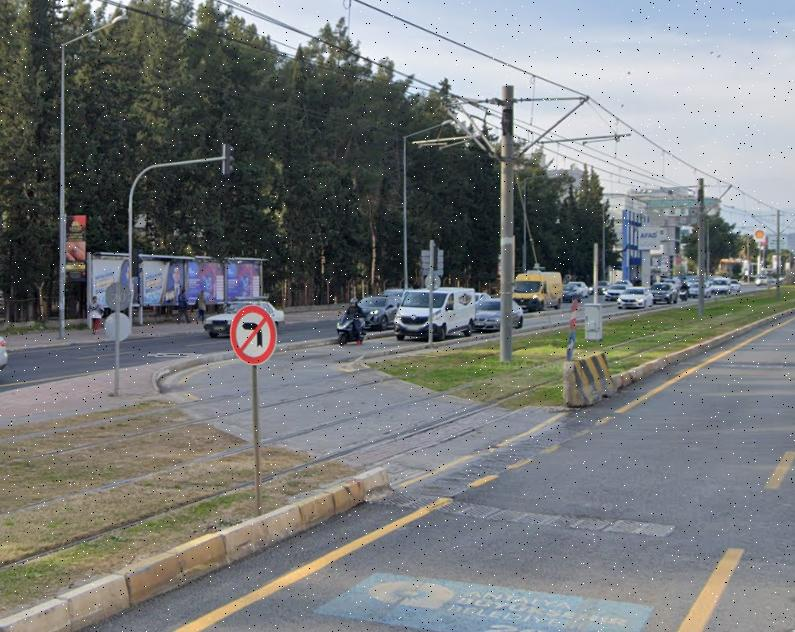leftturnsareforbidden: (231, 307, 274, 364)
